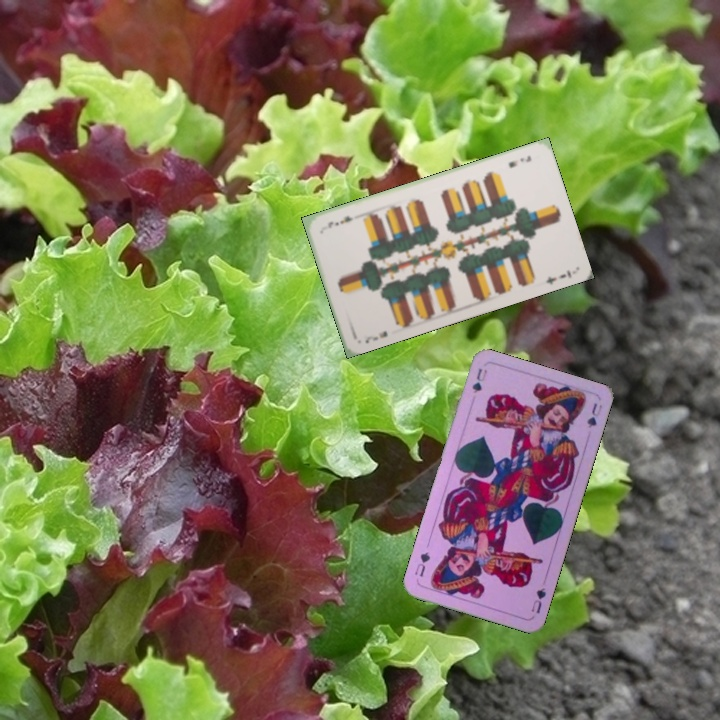E7: (504, 151, 534, 170), (361, 327, 390, 346)
GU: (527, 584, 549, 616), (468, 364, 490, 396)
